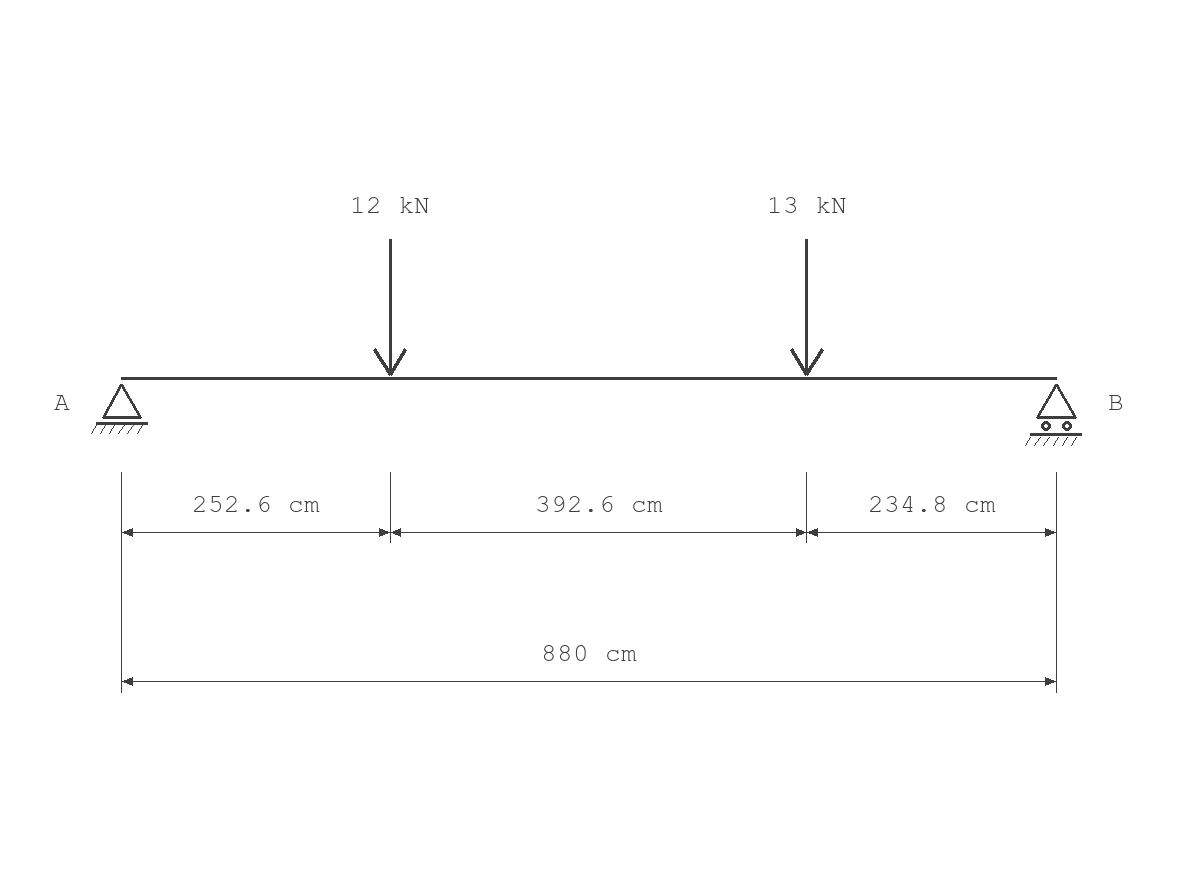pin_support: (91, 384, 148, 434)
point_load: (373, 239, 407, 376), (790, 239, 824, 376)
roller_support: (1025, 384, 1082, 446)
